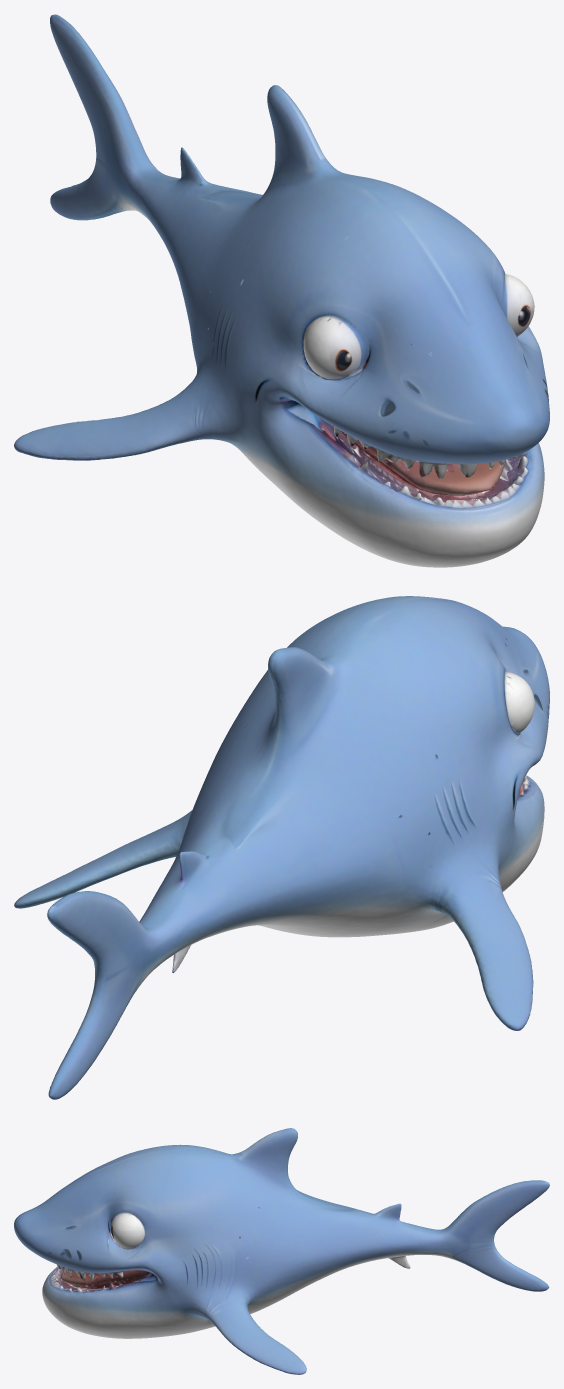
File: SHARK.fbx
3 renders of one model, top to bottom at view 1: azimuth 30°, elevation 25°; view 2: azimuth 150°, elevation 25°; view 3: azimuth 270°, elevation 25°, orthographic. The views are drawn at different scales.
Parts seen in each view (by area): view 1: Mesh_0.126; view 2: Mesh_0.126; view 3: Mesh_0.126.
Boxes of the visible parts, <box> form: Mesh_0.126: <box>14,14,549,567</box>; Mesh_0.126: <box>14,596,549,1099</box>; Mesh_0.126: <box>14,1128,549,1374</box>.
Size of the model in its own units: 124 by 82.41 by 200.
Materials: 1 (1 with a texture image).
